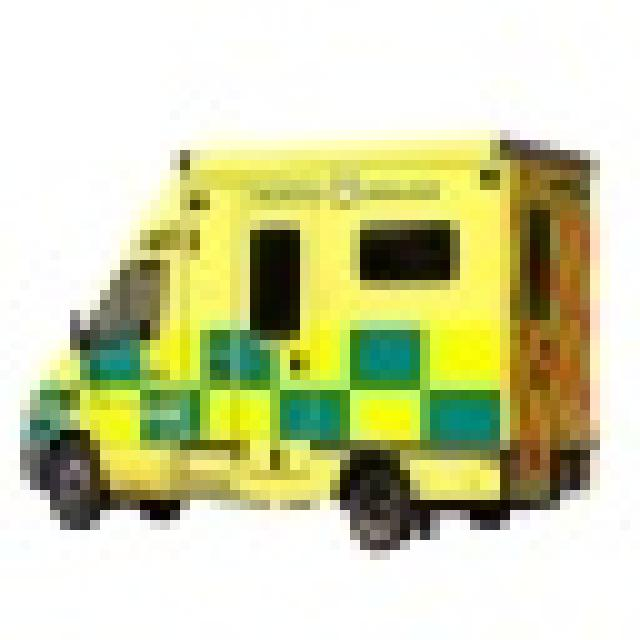Ambulance: (10, 130, 600, 550)
